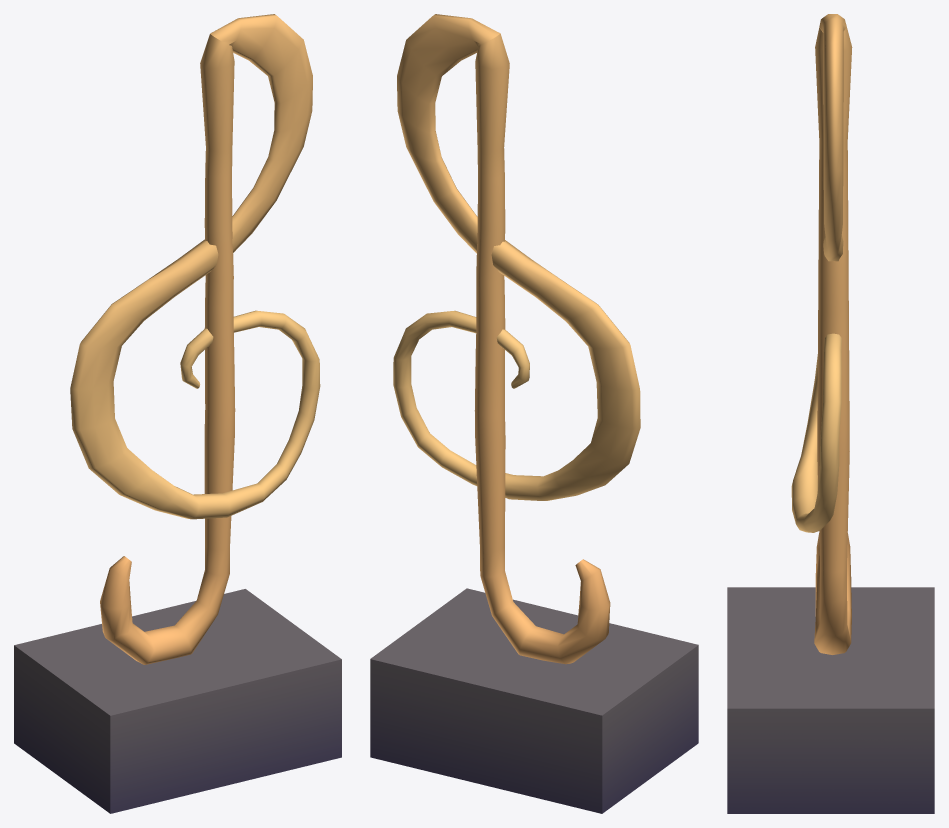
File: PR_NoteStatue.fbx
3 views of the same model, side by side, from view 1: azimuth 30°, elevation 25°; view 2: azimuth 150°, elevation 25°; view 3: azimuth 270°, elevation 25° (orthographic). The views are drawn at different scales.
Visible parts, largest first — view 1: PR_NoteStatue; view 2: PR_NoteStatue; view 3: PR_NoteStatue.
Part boxes in pixels (<box>): PR_NoteStatue: <box>14,14,341,813</box>; PR_NoteStatue: <box>370,14,698,813</box>; PR_NoteStatue: <box>727,14,934,813</box>.
Size of the model in its own units: 96.82 by 258 by 63.14.
1 material, 1 textured.
